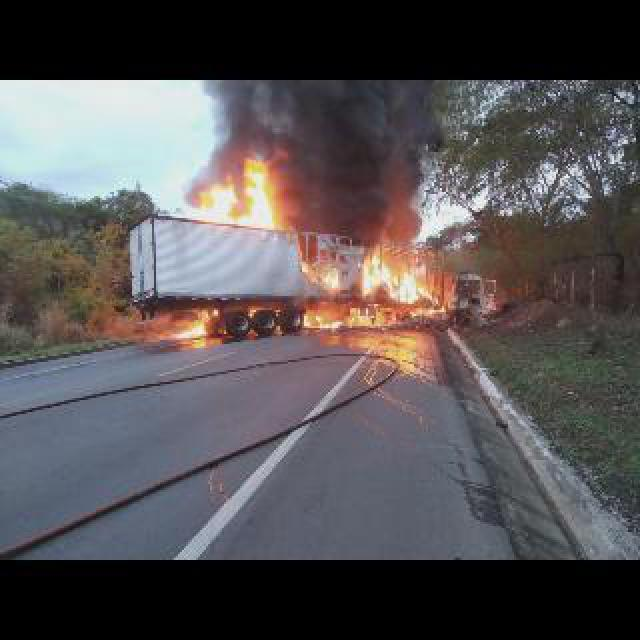smoke: (264, 80, 452, 234), (168, 80, 266, 156), (166, 158, 244, 190)
zfire: (202, 160, 278, 228), (358, 258, 436, 304), (306, 308, 372, 328), (176, 312, 212, 338), (320, 268, 340, 288), (300, 260, 310, 274), (428, 308, 446, 314)
